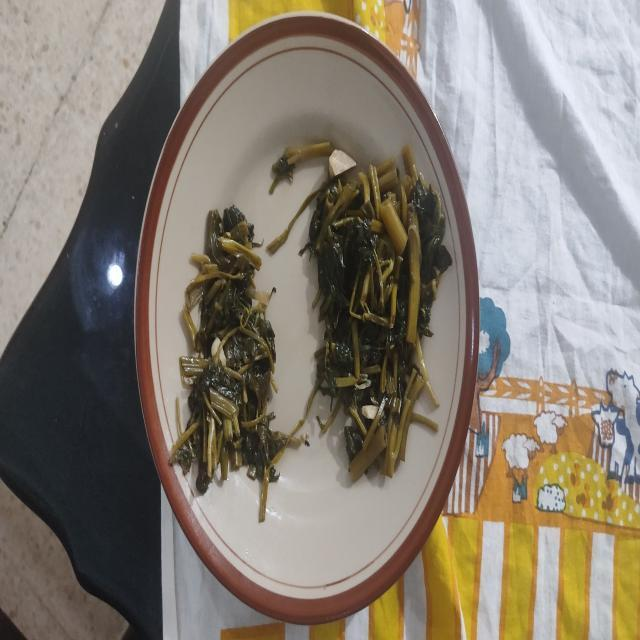tumis_kangkung: (299, 146, 452, 482), (186, 206, 280, 474)
